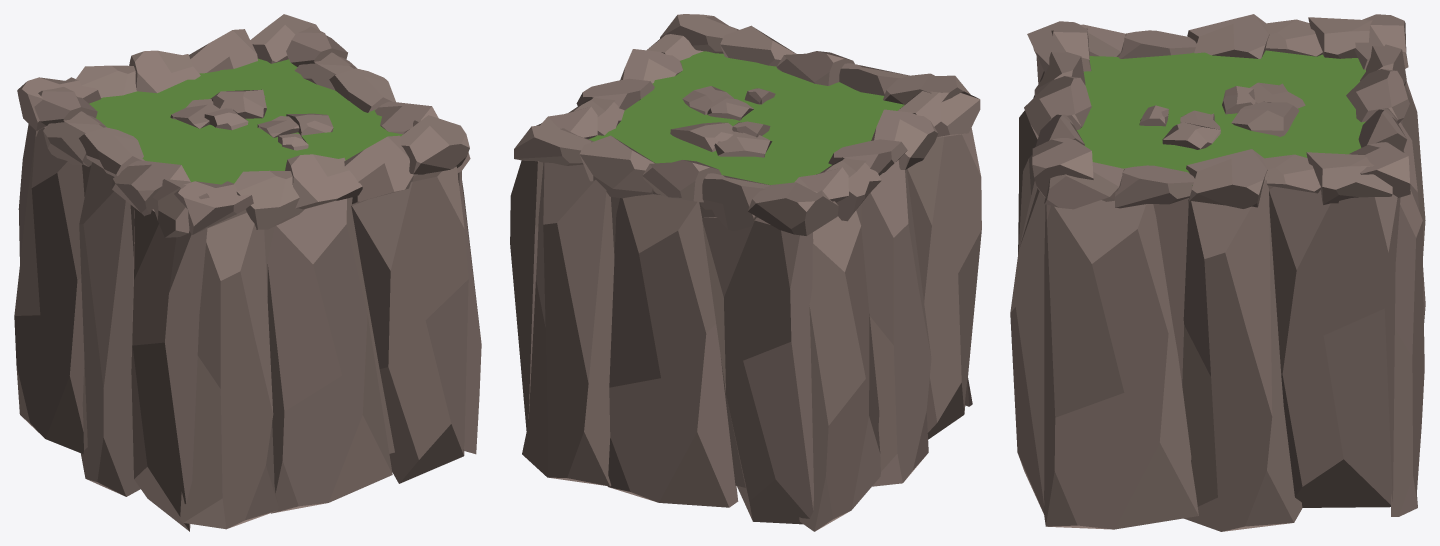
File: tilemap_block.glb
3 views of the same model, side by side, from view 1: azimuth 30°, elevation 25°; view 2: azimuth 150°, elevation 25°; view 3: azimuth 270°, elevation 25° (orthographic). The views are drawn at different scales.
Visible parts, largest first — view 1: Left_Wall, Back_Wall, Block, Left, Back, Right, Front, Front_Wall, Stone_2, Stone_1, Right_Wall; view 2: Right_Wall, Back_Wall, Block, Right, Back, Left, Front, Front_Wall, Stone_2, Stone_1; view 3: Front_Wall, Block, Front, Right_Wall, Left_Wall, Back, Left, Right, Stone_2, Stone_1.
Part boxes in pixels (x1=…): Left_Wall: x1=180, y1=166, x2=468, y2=529; Back_Wall: x1=14, y1=128, x2=207, y2=531; Block: x1=44, y1=58, x2=461, y2=453; Left: x1=174, y1=115, x2=469, y2=234; Back: x1=34, y1=87, x2=209, y2=237; Right: x1=17, y1=14, x2=319, y2=130; Front: x1=286, y1=26, x2=470, y2=172; Front_Wall: x1=458, y1=172, x2=481, y2=454; Stone_2: x1=170, y1=89, x2=266, y2=130; Stone_1: x1=257, y1=113, x2=333, y2=150; Right_Wall: x1=18, y1=124, x2=38, y2=263; Right_Wall: x1=522, y1=162, x2=813, y2=524; Back_Wall: x1=799, y1=128, x2=981, y2=531; Block: x1=537, y1=51, x2=904, y2=487; Right: x1=514, y1=125, x2=838, y2=235; Back: x1=794, y1=91, x2=980, y2=221; Left: x1=660, y1=14, x2=970, y2=104; Front: x1=536, y1=34, x2=703, y2=139; Front_Wall: x1=510, y1=160, x2=543, y2=430; Stone_2: x1=670, y1=121, x2=772, y2=157; Stone_1: x1=682, y1=86, x2=775, y2=120; Front_Wall: x1=1043, y1=176, x2=1400, y2=531; Block: x1=1047, y1=50, x2=1365, y2=385; Front: x1=1044, y1=149, x2=1392, y2=209; Right_Wall: x1=1391, y1=81, x2=1425, y2=516; Left_Wall: x1=1010, y1=71, x2=1045, y2=513; Back: x1=1051, y1=14, x2=1372, y2=58; Left: x1=1024, y1=21, x2=1093, y2=198; Right: x1=1346, y1=14, x2=1410, y2=197; Stone_2: x1=1222, y1=82, x2=1305, y2=136; Stone_1: x1=1139, y1=105, x2=1220, y2=149.
Bounding box in the file's own units: 4.83 × 4.88 × 4.84.
